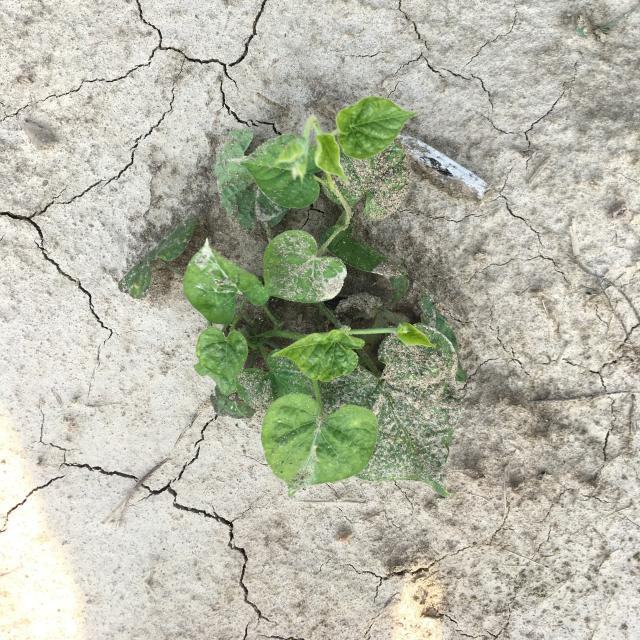MorningGlory: (118, 97, 469, 499)
